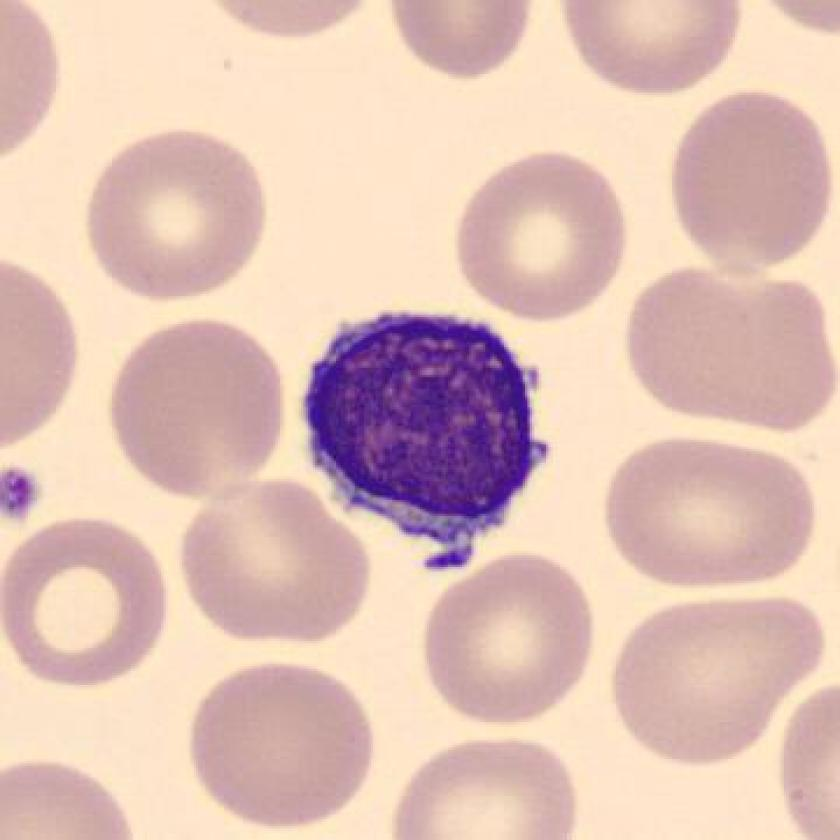lymphocyte: (283, 286, 566, 589)
